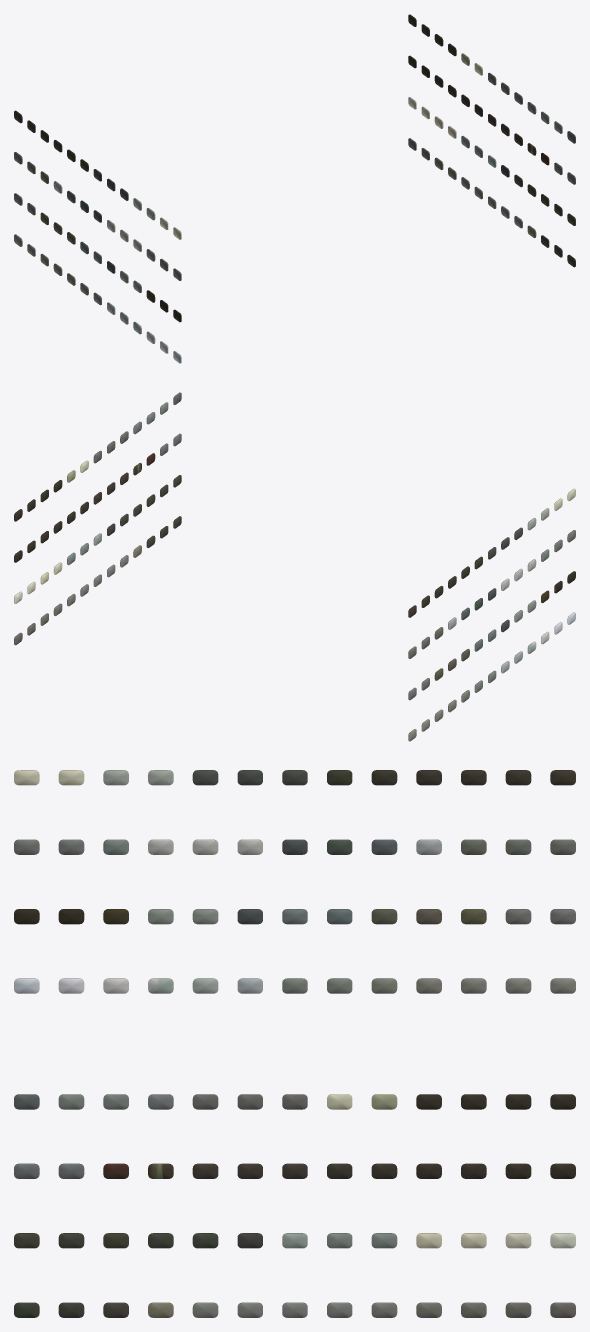
The model's file is SM_Hublots_S5.glb.
The picture shows the model from 3 angles, top to bottom: view 1: azimuth 30°, elevation 25°; view 2: azimuth 150°, elevation 25°; view 3: azimuth 270°, elevation 25°; orthographic projection. The views are drawn at different scales.
Bounding box in the file's own units: 2 × 0.6395 × 1.46.
1 material, 1 textured.
